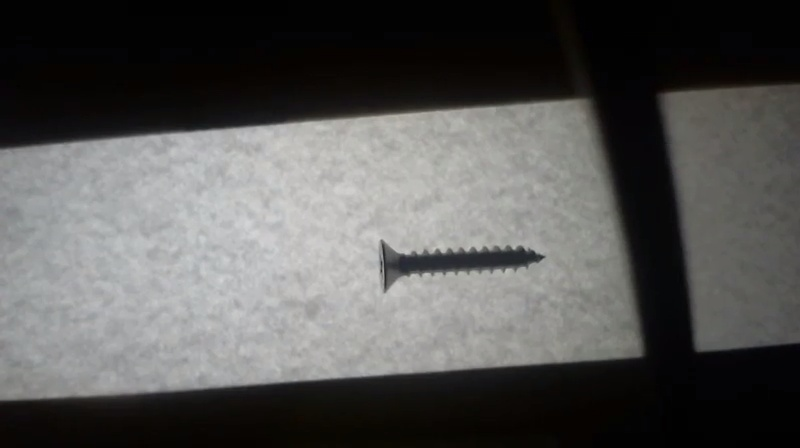S001: (374, 239, 550, 293)
